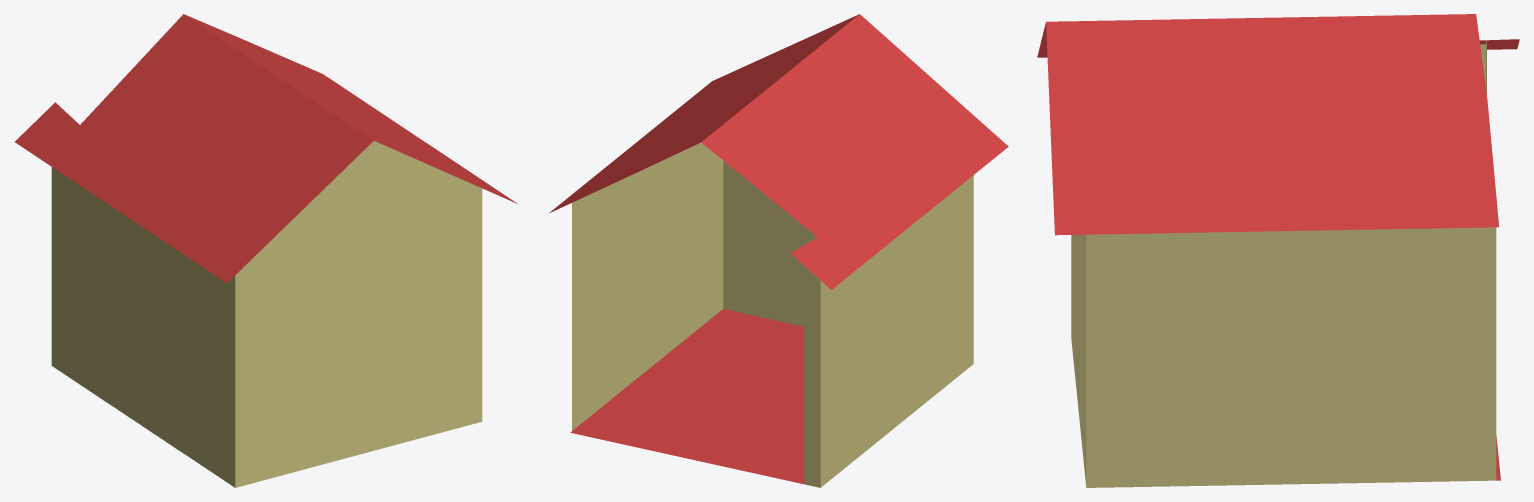
The picture shows the model from 3 angles, left to right: view 1: azimuth 30°, elevation 25°; view 2: azimuth 150°, elevation 25°; view 3: azimuth 270°, elevation 25°; orthographic projection. The views are drawn at different scales.
Size of the model in its own units: 10.06 by 11.04 by 9.9.
